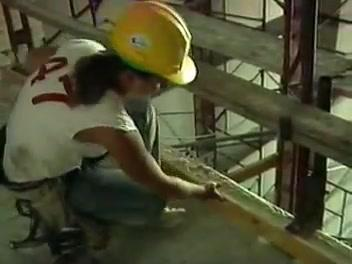no -hi-vis jacket: (6, 58, 125, 193)
